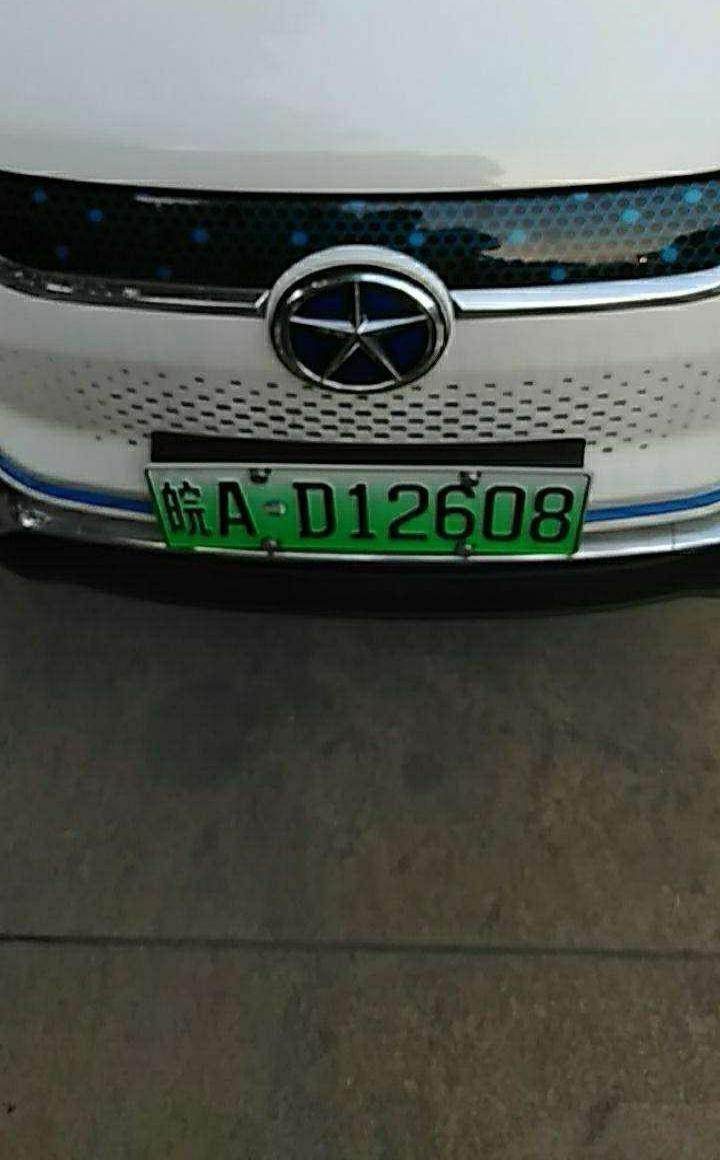car_id: (150, 470, 586, 552)
